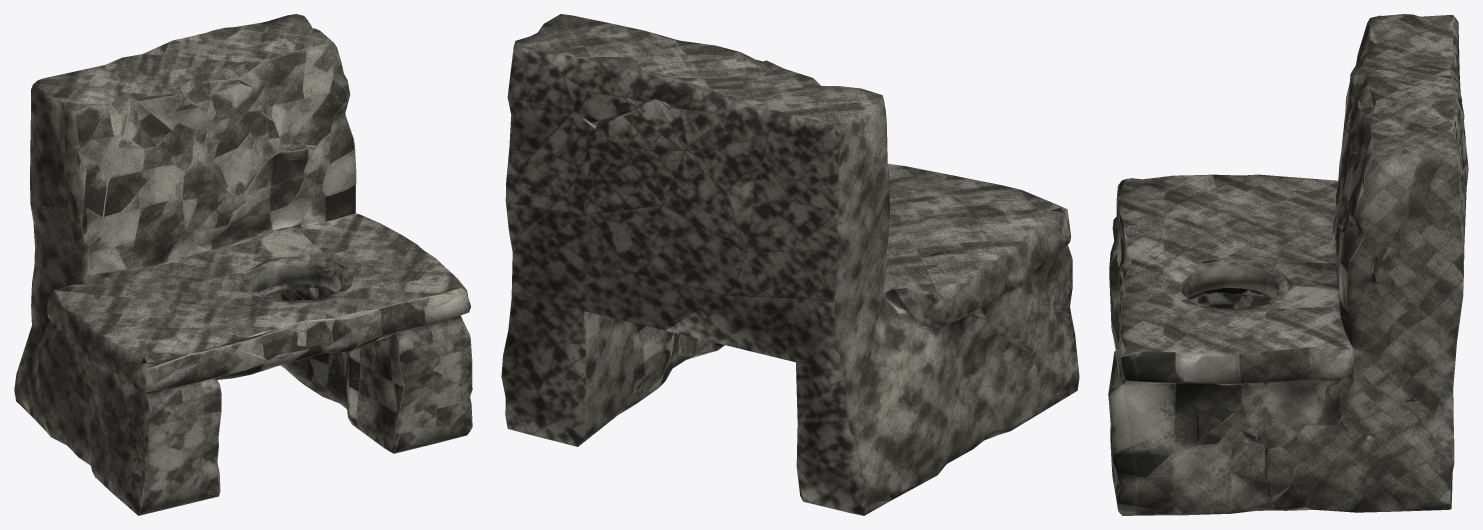
The model's file is Latrines.fbx.
3 views of the same model, side by side, from view 1: azimuth 30°, elevation 25°; view 2: azimuth 150°, elevation 25°; view 3: azimuth 270°, elevation 25° (orthographic). The views are drawn at different scales.
Visible parts, largest first — view 1: Mesh_0; view 2: Mesh_0; view 3: Mesh_0.
Part boxes in pixels (<box>): Mesh_0: <box>14,14,472,515</box>; Mesh_0: <box>501,14,1079,515</box>; Mesh_0: <box>1108,14,1468,515</box>.
Size of the model in its own units: 190 by 171 by 156.
Materials: 1 (1 with a texture image).
